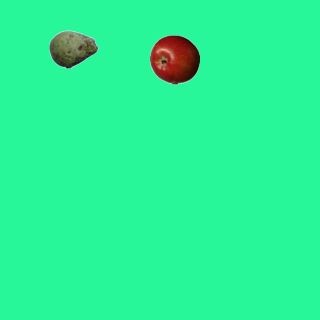Apple Braeburn: (149, 34, 199, 84)
Pear Stone: (48, 24, 98, 74)
